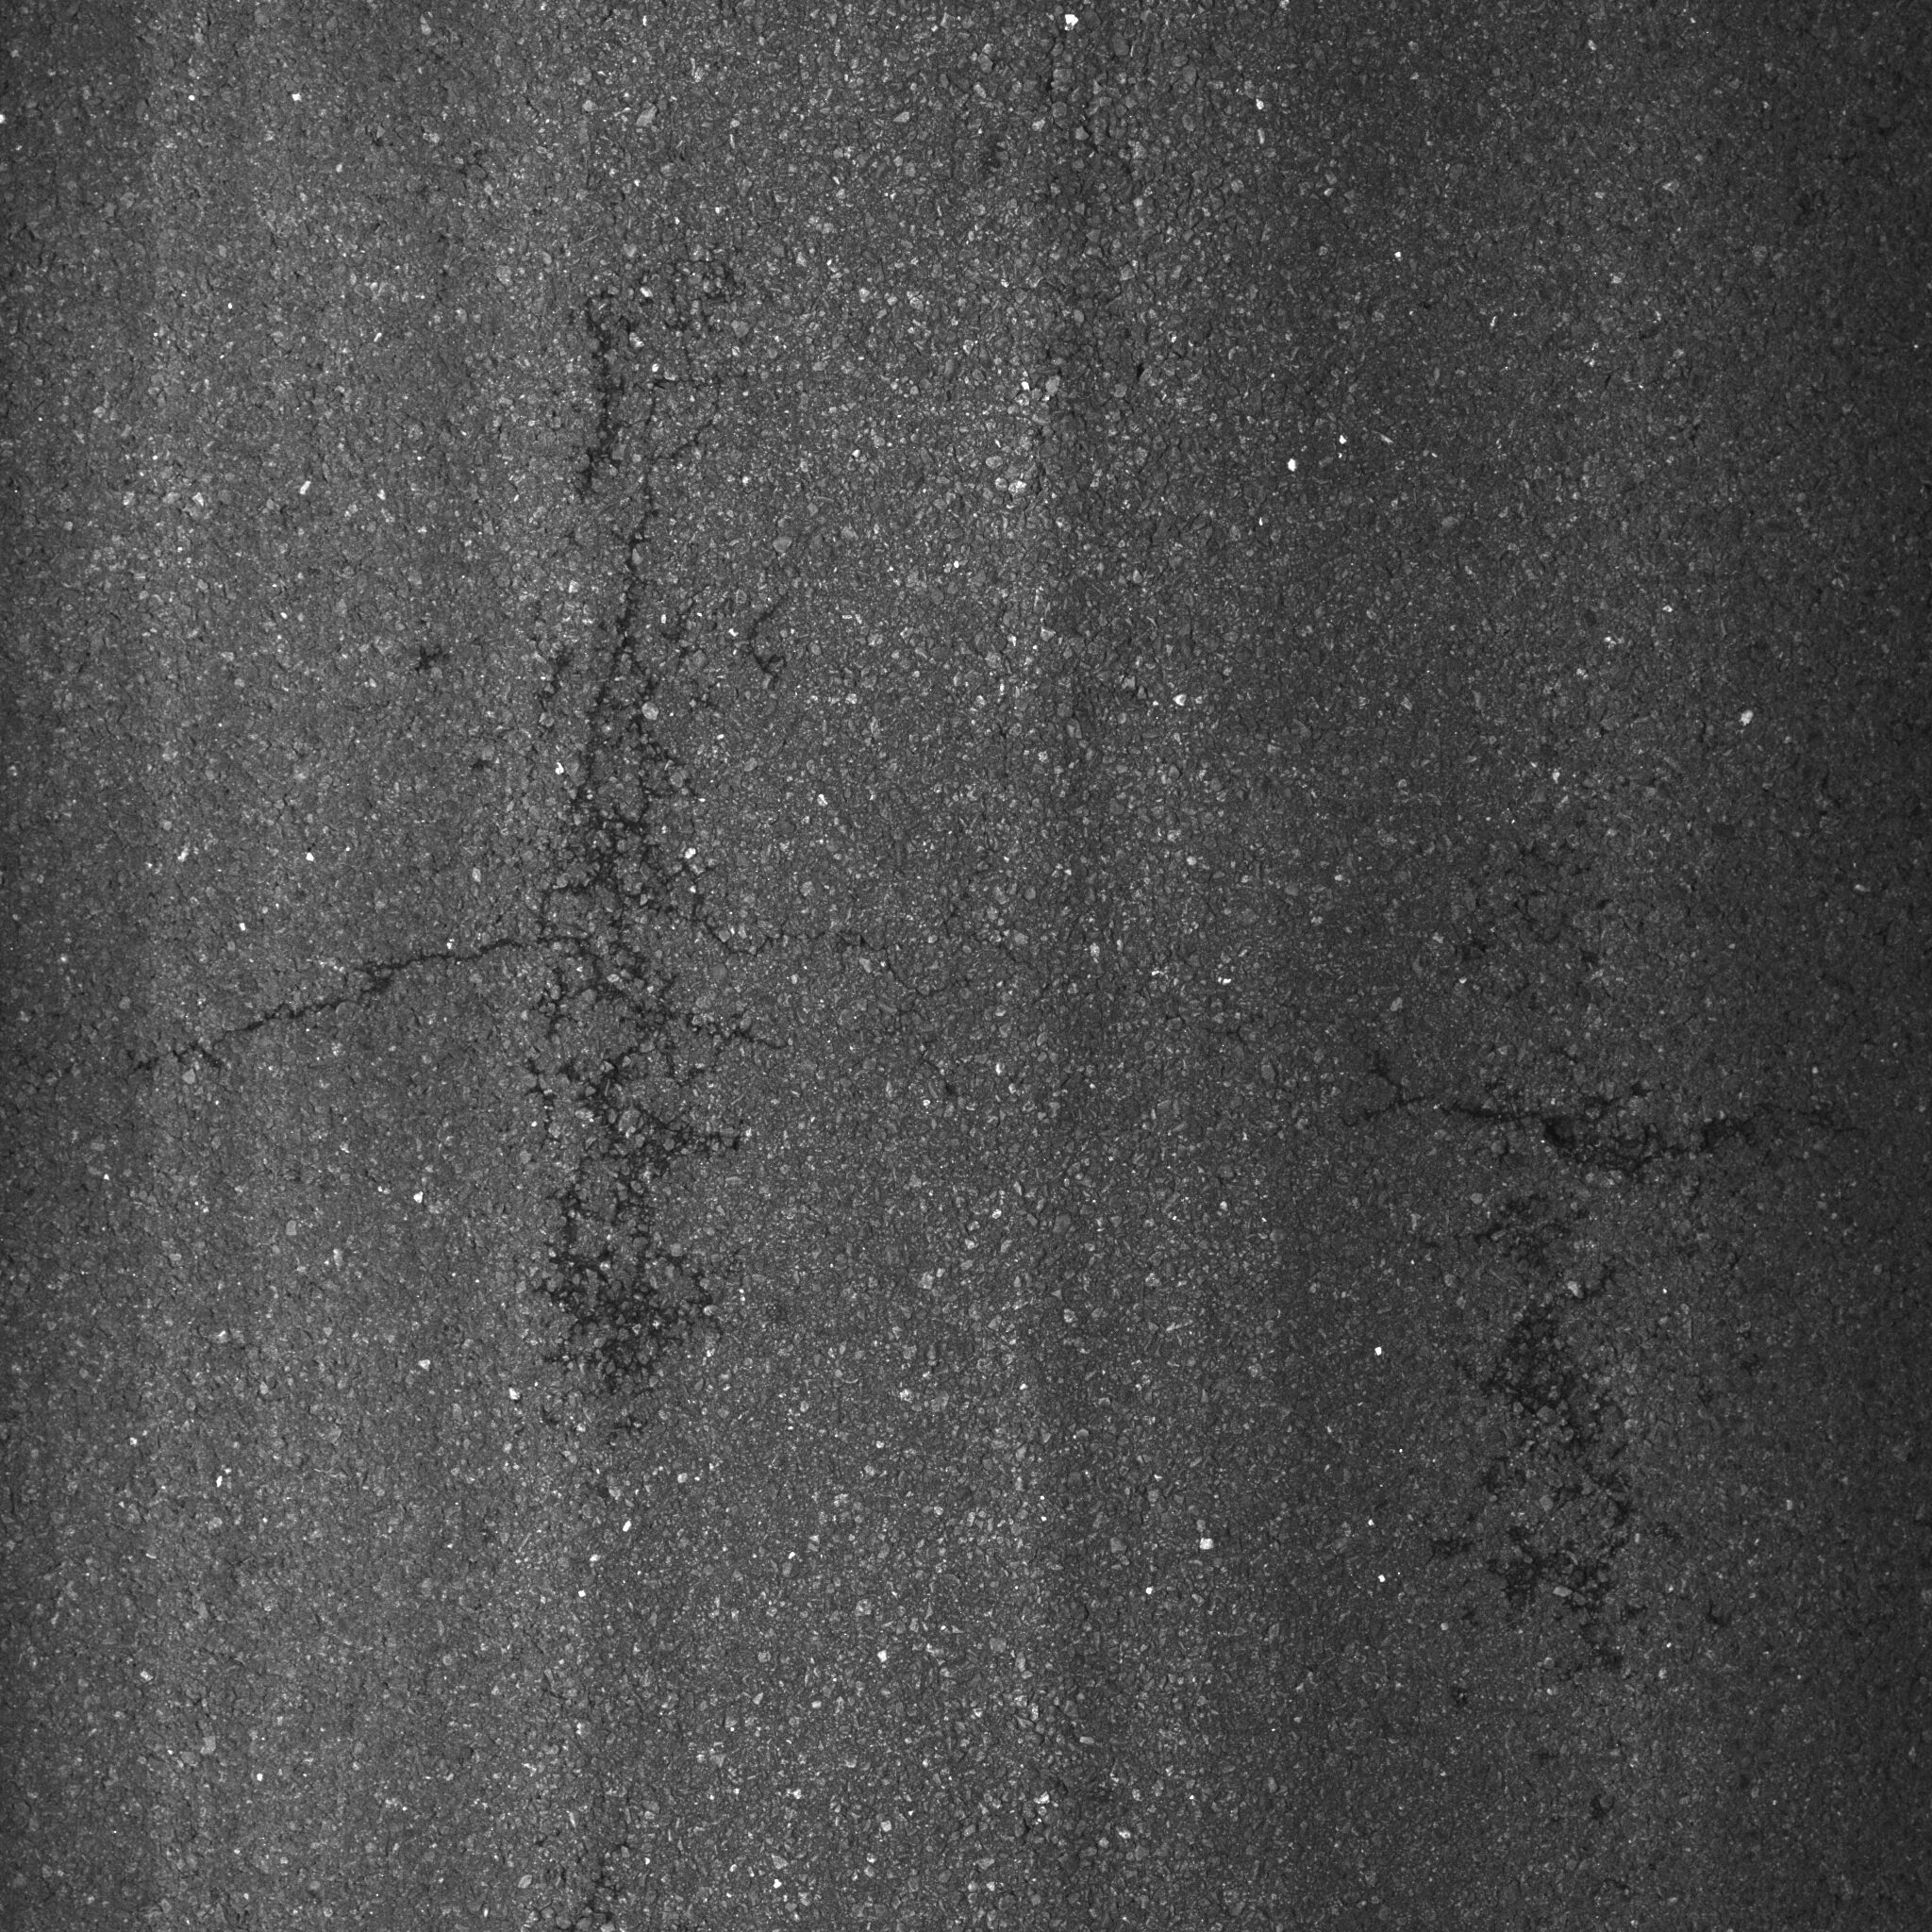alligator: (97, 287, 909, 1458), (1254, 943, 1879, 1785)
